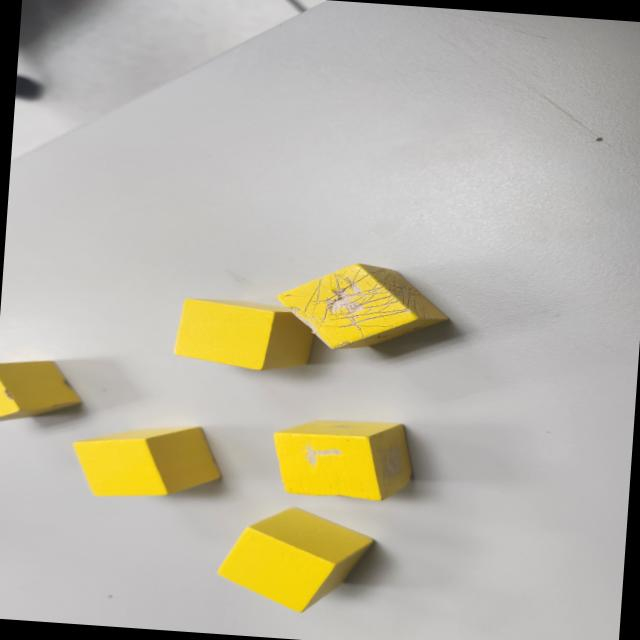broken: (275, 257, 457, 357), (266, 414, 416, 506), (0, 356, 82, 428)
yellow: (212, 500, 380, 618), (68, 418, 221, 504), (170, 295, 316, 374)
